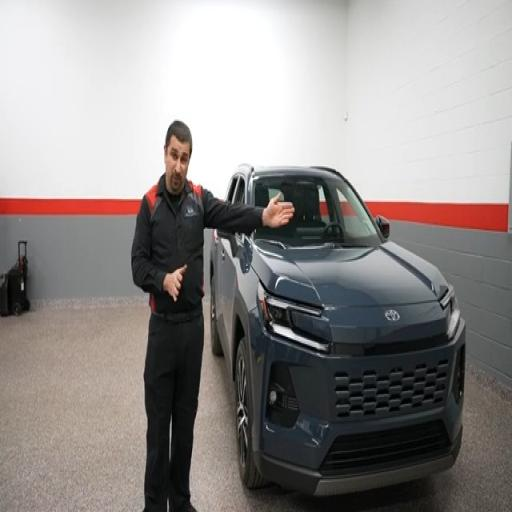bumper: (252, 320, 465, 494), (256, 429, 462, 496)
door: (220, 238, 239, 339), (212, 231, 229, 342)
emblem: (385, 311, 399, 322)
fog_light: (269, 390, 277, 405)
grille: (320, 421, 450, 476), (335, 360, 448, 418)
headlight: (258, 284, 330, 352), (440, 285, 460, 339)
hood: (252, 242, 447, 308)
side_mirror: (217, 231, 238, 257), (376, 215, 389, 238)
tire: (235, 339, 267, 489)
wheel: (210, 278, 223, 355), (324, 222, 343, 237), (13, 303, 21, 315)
window: (232, 177, 245, 203), (225, 176, 238, 202)
windshield: (252, 174, 380, 247)
